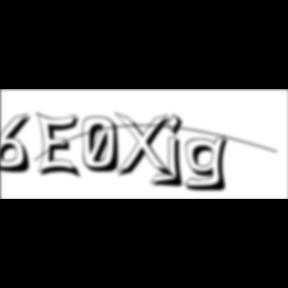0: (82, 115, 128, 174)
6: (1, 112, 37, 176)
E: (36, 110, 86, 182)
X: (114, 112, 178, 182)
g: (184, 134, 236, 194)
j: (164, 113, 190, 191)
